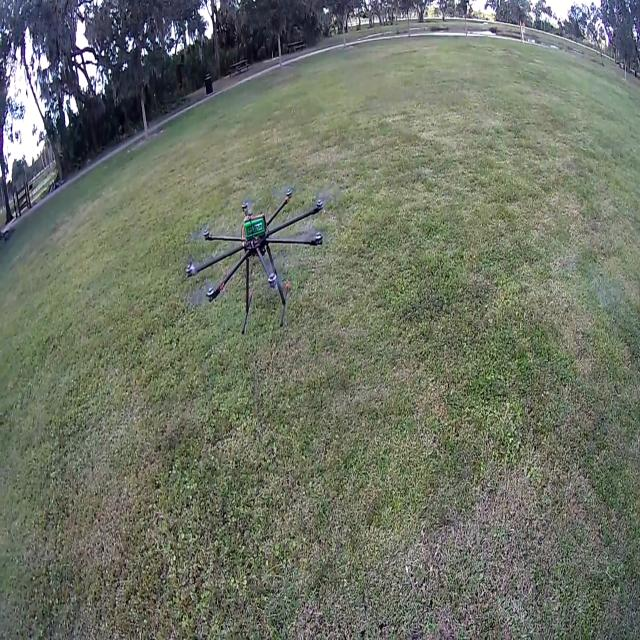drone: (181, 196, 335, 344)
